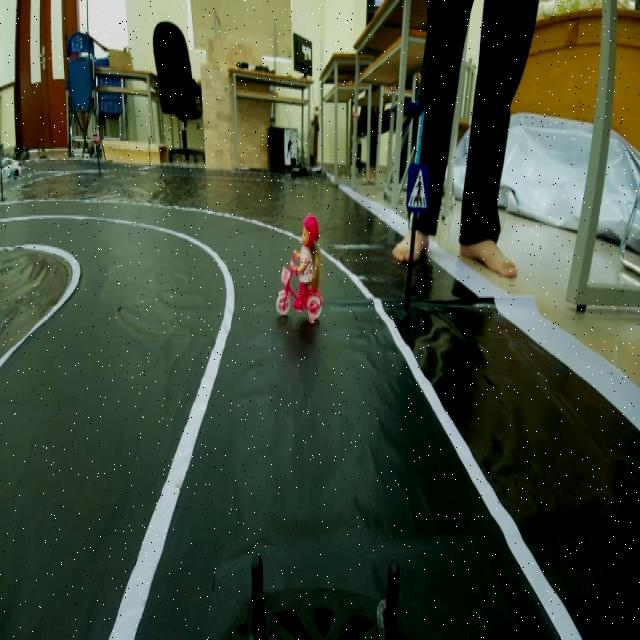crosswalk: (404, 162, 436, 218)
pedestrian: (269, 212, 337, 328)
